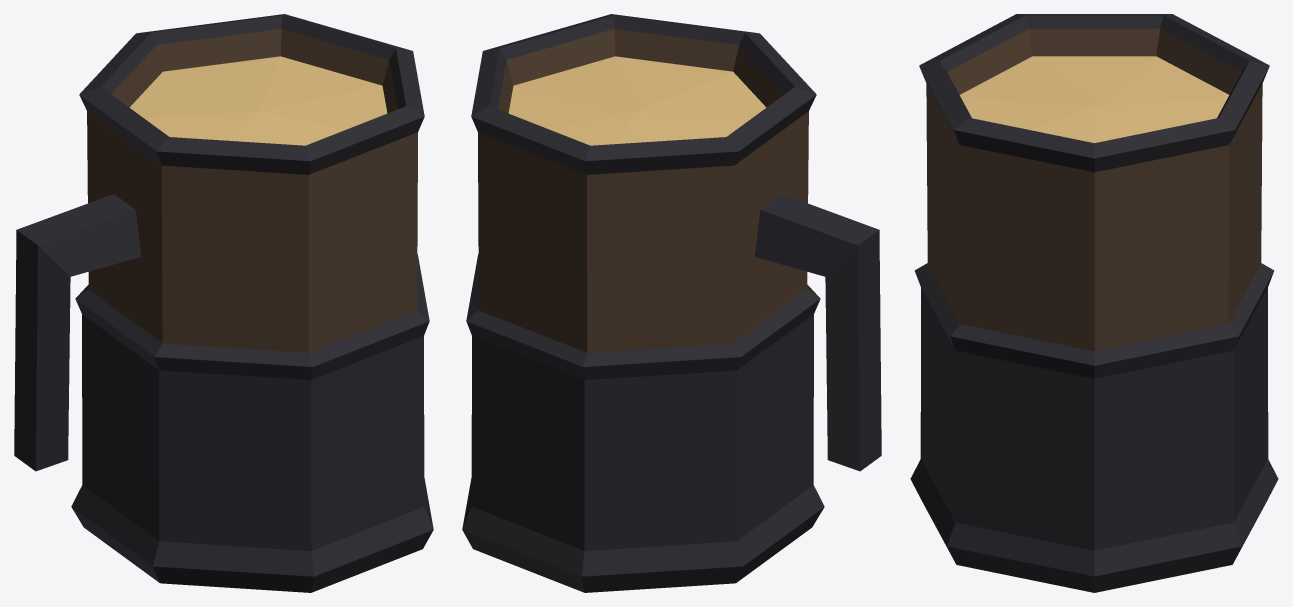
The model's file is Cup_2.fbx.
The picture shows the model from 3 angles, left to right: view 1: azimuth 30°, elevation 25°; view 2: azimuth 150°, elevation 25°; view 3: azimuth 270°, elevation 25°; orthographic projection.
Parts seen in each view (by area): view 1: polySurface2958; view 2: polySurface2958; view 3: polySurface2958.
Boxes of the visible parts, x1,y1,x2,y2 form: polySurface2958: [14, 14, 433, 592]; polySurface2958: [462, 14, 881, 592]; polySurface2958: [910, 14, 1278, 592].
Bounding box in the file's own units: 28.15 × 29.86 × 22.54.
